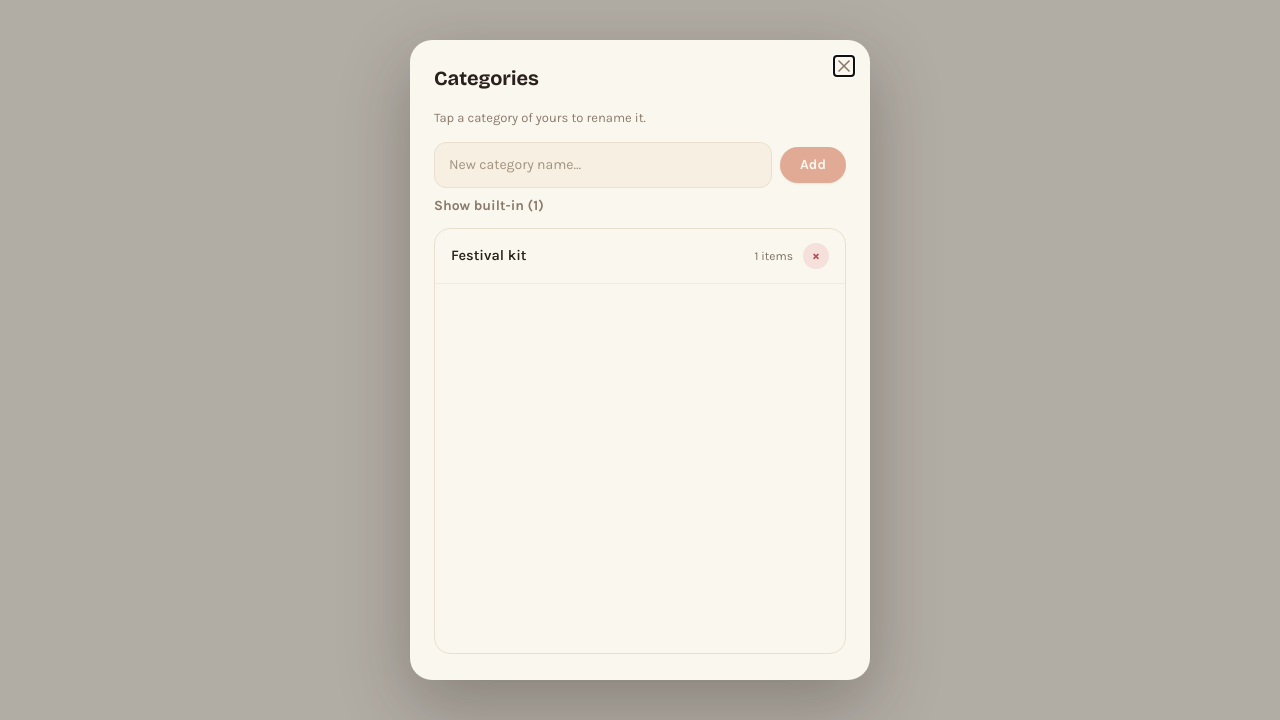
CategoriesModal › hides built-in categories by default; 'Show built-in' reveals their item count and Built-in badge, 'Hide built-in' re-hides them
Expected: the text "Festival kit" is shown, [451,247,526,264]
Expected: the text "1 items" is shown, [754,248,793,264]
Step 1. Click the button "Show built-in (1)" → click(489, 206), box [434,196,544,216]
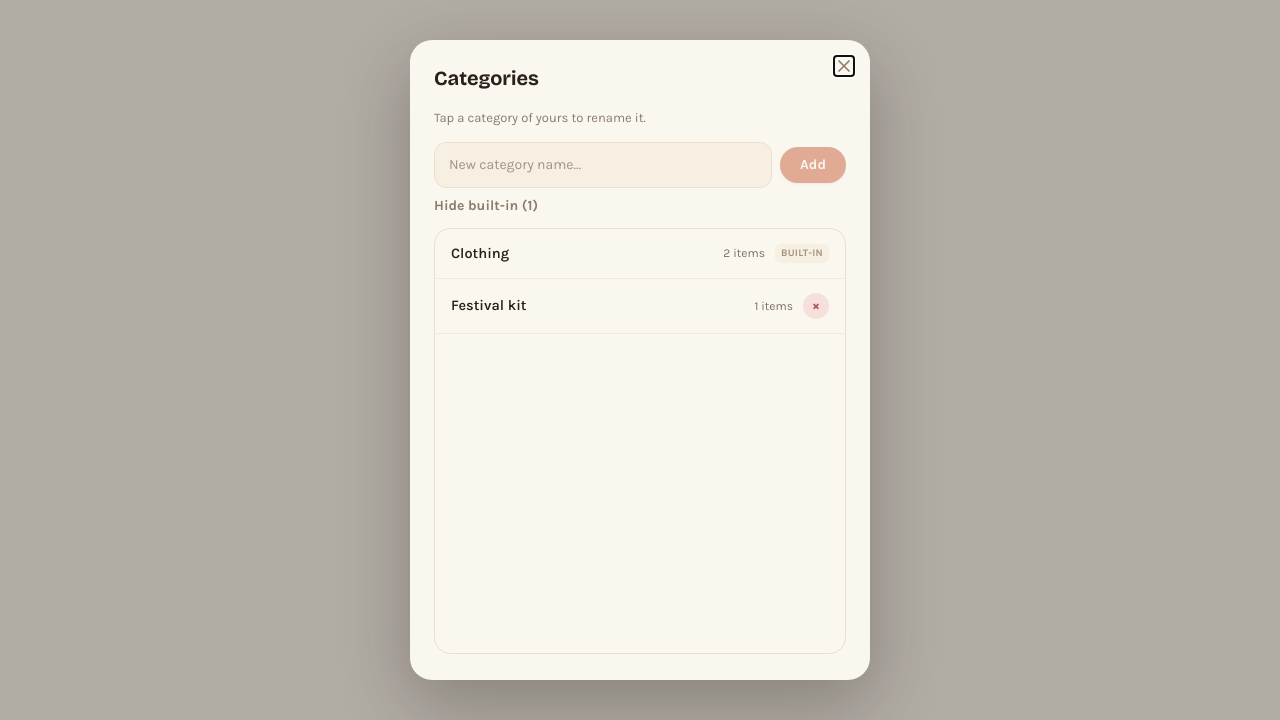
Expected: the text "Clothing" is shown, [451,244,509,262]
Expected: the text "2 items" is shown, [723,245,765,261]
Expected: the text "Built-in" is shown, [775,244,829,263]
Step 2. Click the button "Hide built-in (1)" → click(486, 206), box [434,196,538,216]
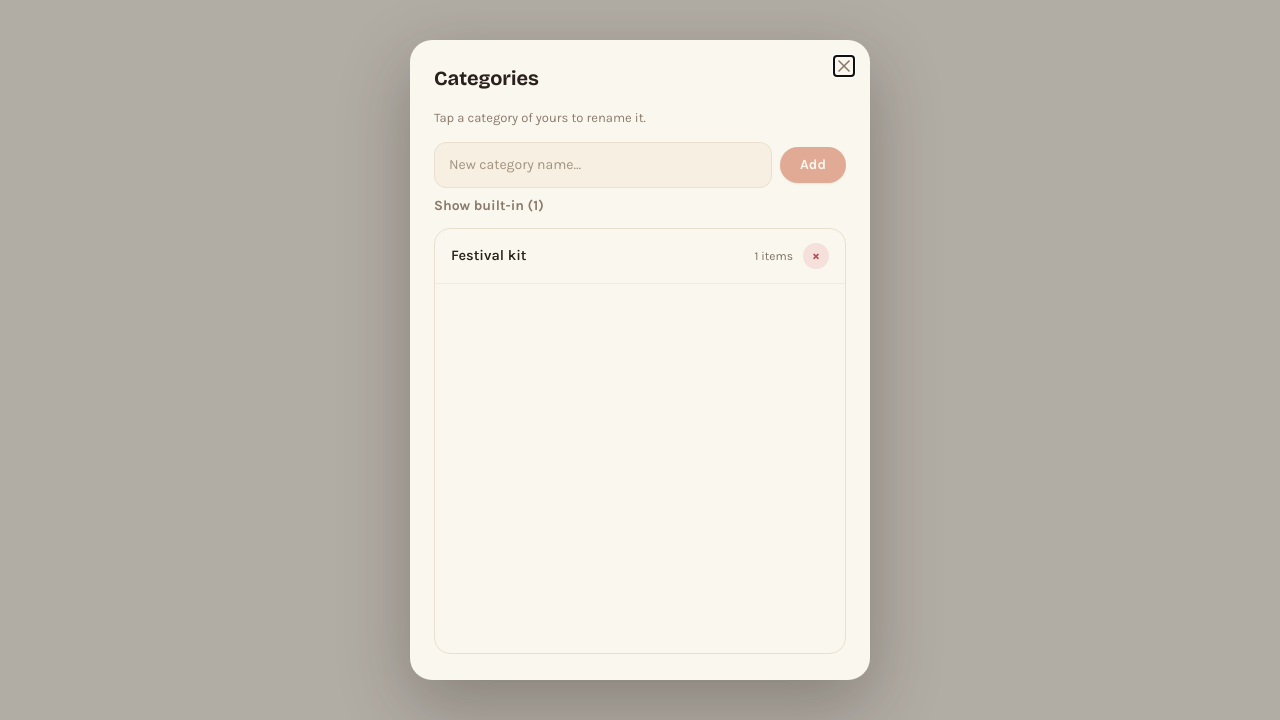
Expected: the text "Clothing" is gone
